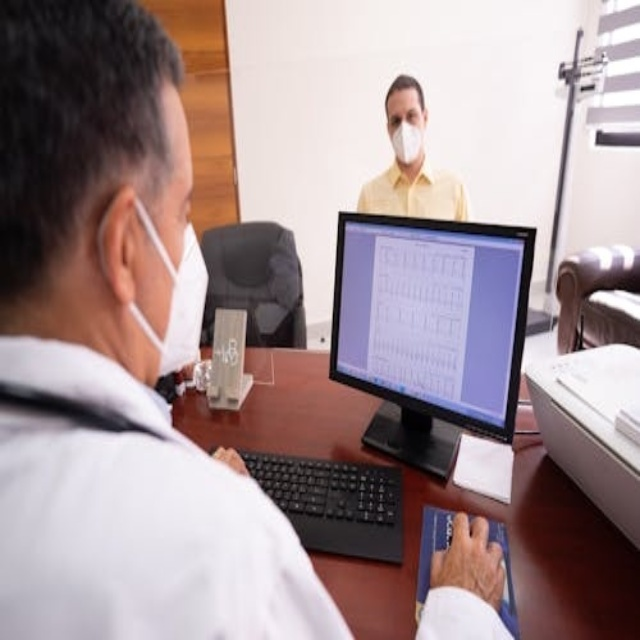Mascara: (99, 192, 209, 370), (391, 121, 423, 164)
Sin_gafas: (140, 169, 196, 227), (388, 106, 422, 127)
Sin_guantes: (426, 502, 508, 617)
